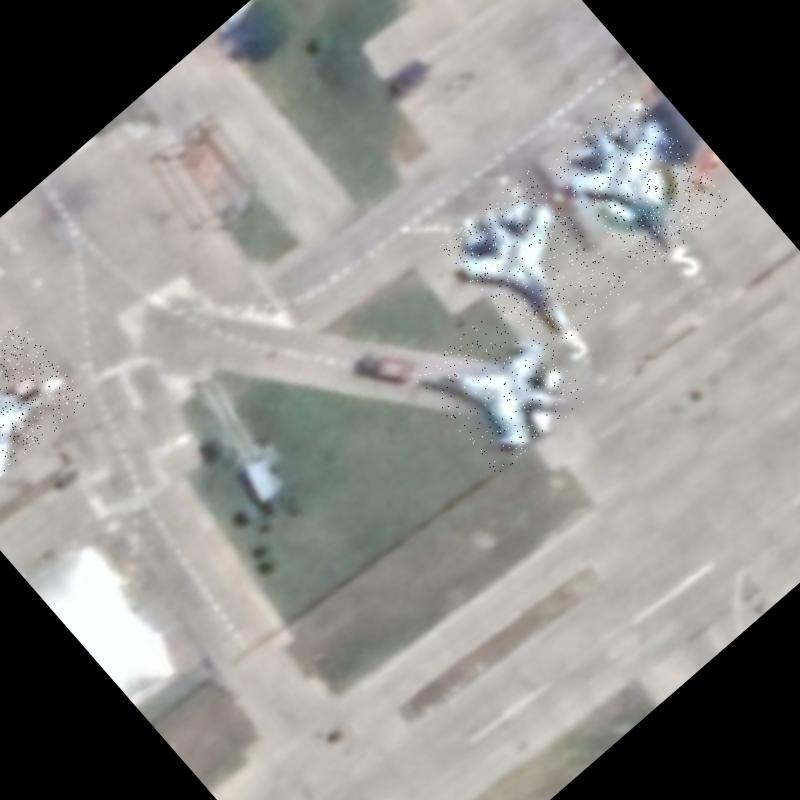A1: (440, 170, 629, 362), (544, 86, 733, 278), (413, 298, 590, 476)
A19: (0, 320, 90, 500)
